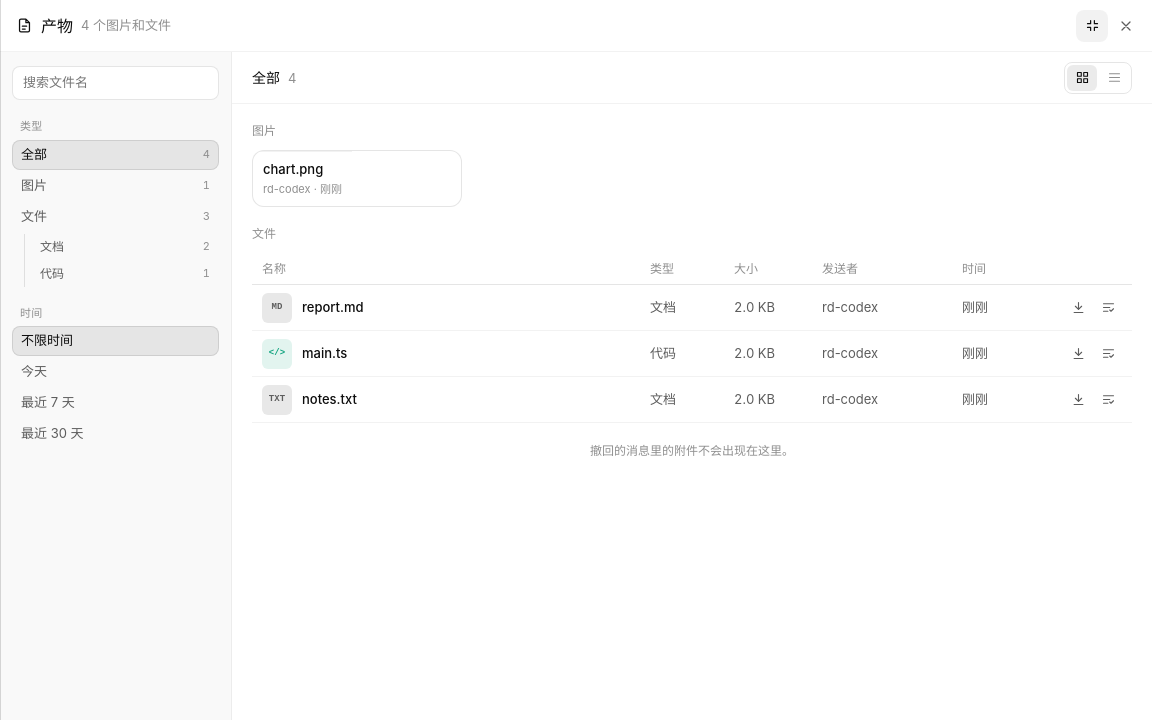
ArtifactsPanel › shows latest images above the file table, filters by type and searches by name
Check: the button with aria-label "查看图片 chart.png" is shown, box 252,150 -> 462,207
Check: the column headings read "名称", "类型", "大小", "发送者", "时间", "操作", in this order, box 252,253 -> 640,285; 640,253 -> 724,285; 724,253 -> 812,285; 812,253 -> 952,285; 952,253 -> 1056,285; 1056,253 -> 1132,285
文件细分类型一直列在「文件」下面
Click the button "代码 1" at (125, 274), box 31,260 -> 219,286
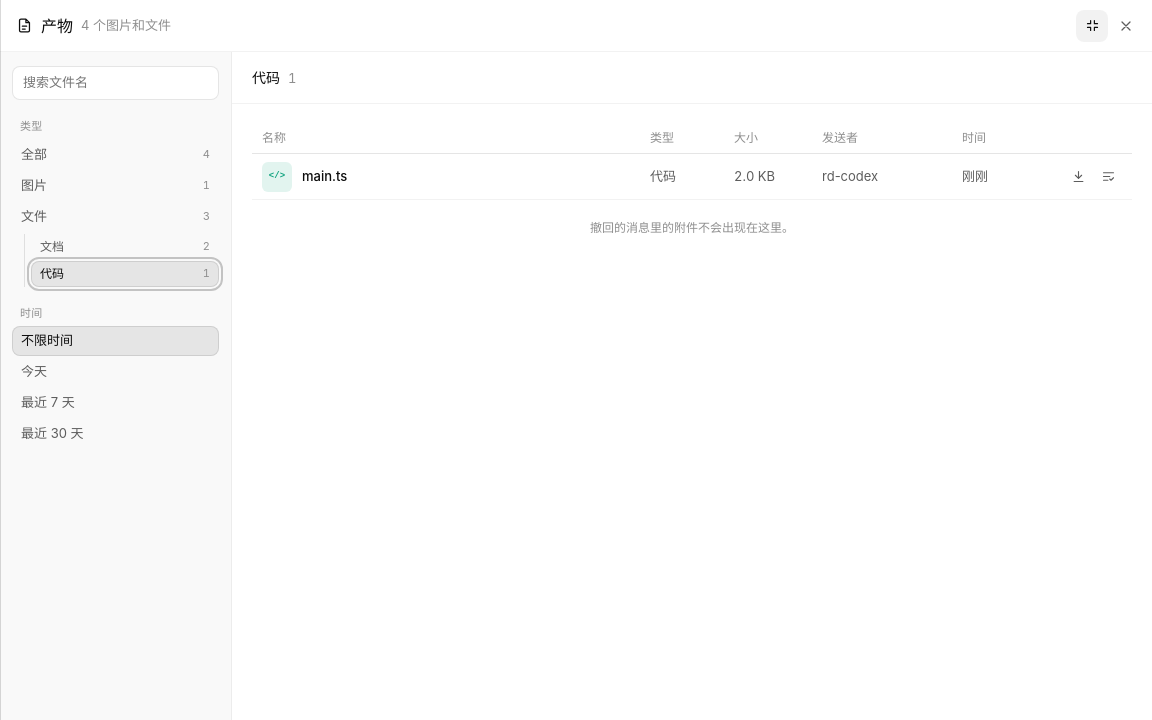
Check: the table "代码" shows "main.ts", box 256,156 -> 630,198
Check: the button "report.md" is gone
Check: the element "图片显示方式" is gone
Click the button "全部 4" at (116, 154), box 12,140 -> 219,170
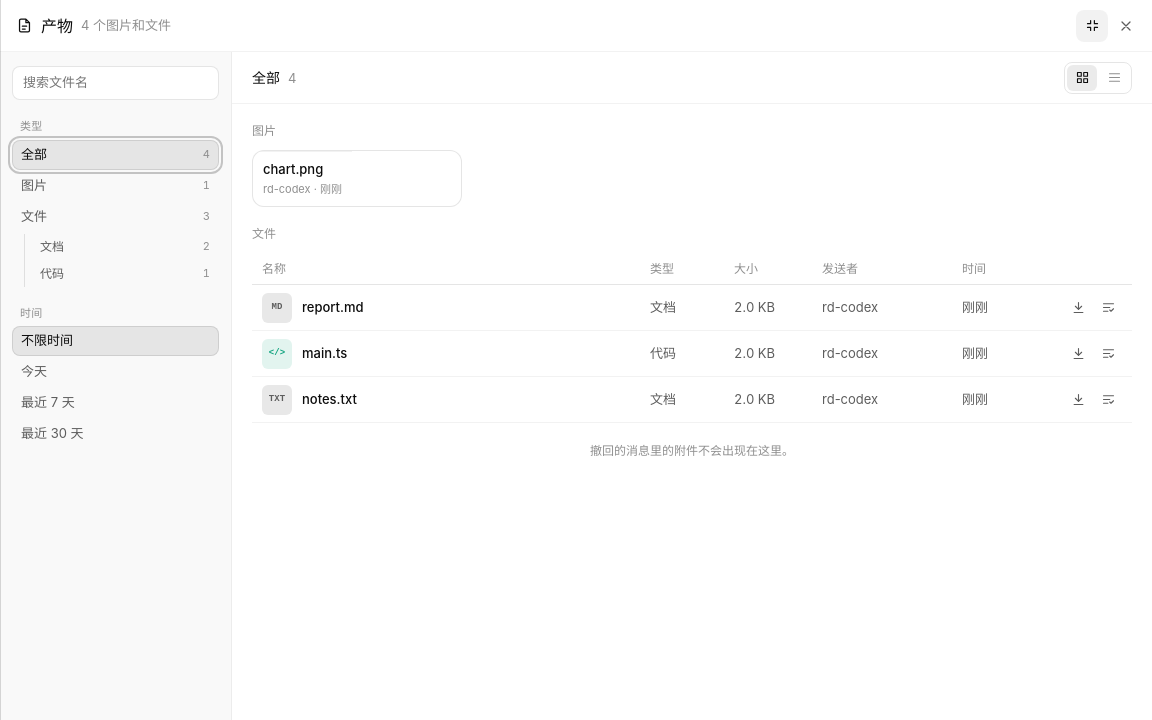
Type "NOTES" into the search field named "按文件名搜索产物" at (116, 83), box 12,66 -> 219,100
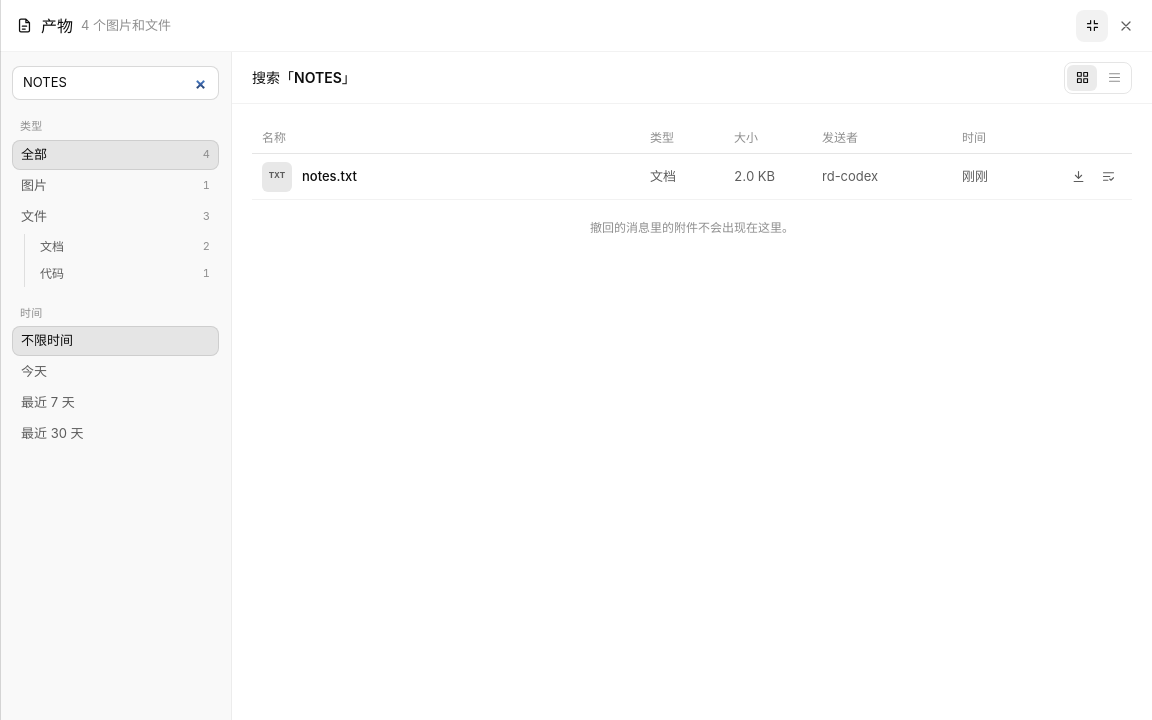
Check: the text "notes.txt" is shown, box 302,167 -> 357,186
Check: the button "report.md" is gone
Replace the text in the search field with "zzz" at (116, 83), box 12,66 -> 219,100
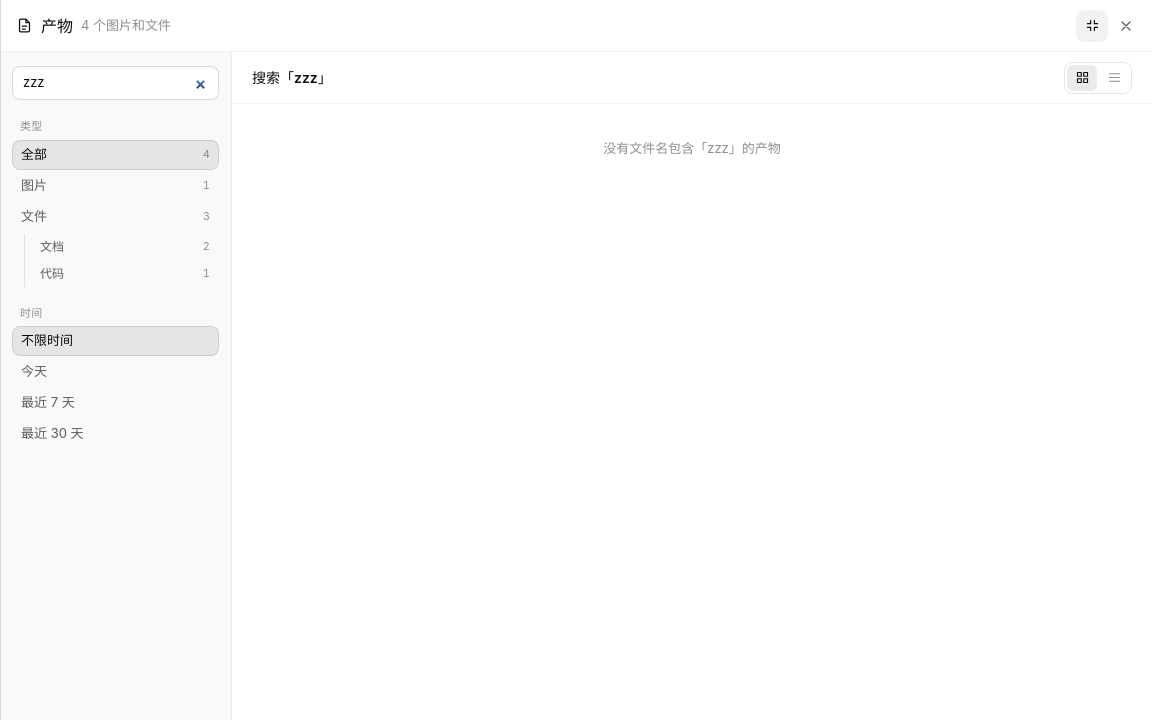
Check: the text "没有文件名包含「zzz」的产物" is shown, box 603,140 -> 781,156
